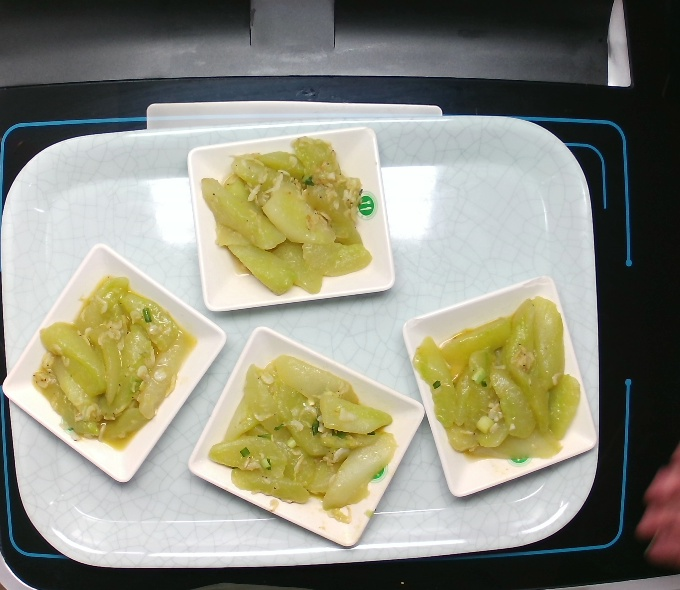wcq-HuangGua: (204, 351, 399, 527), (24, 266, 201, 455), (406, 291, 586, 471), (194, 129, 378, 303)
